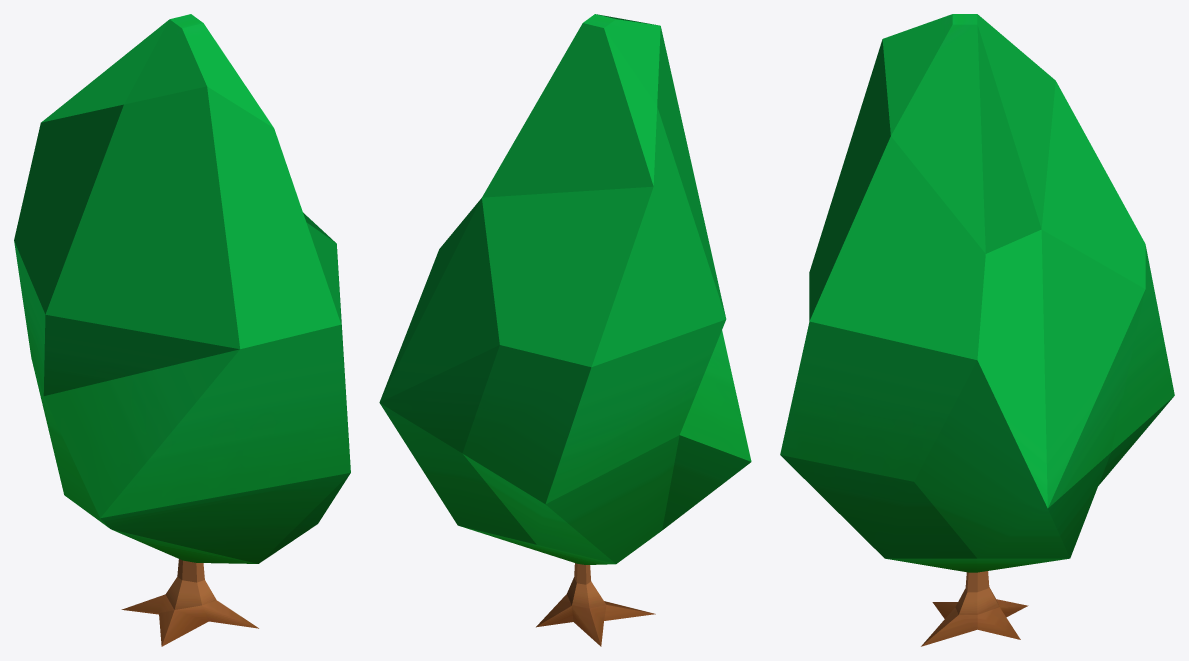
Rendered from bush-3.glb.
The picture shows the model from 3 angles, left to right: view 1: azimuth 30°, elevation 25°; view 2: azimuth 150°, elevation 25°; view 3: azimuth 270°, elevation 25°; orthographic projection.
Visible parts, largest first — view 1: bush3; view 2: bush3; view 3: bush3.
Boxes of the visible parts, <box> form: bush3: <box>14,14,350,646</box>; bush3: <box>379,14,751,646</box>; bush3: <box>780,14,1174,646</box>.
Bounding box in the file's own units: 1.7 × 3.09 × 1.83.
1 material, 1 textured.
